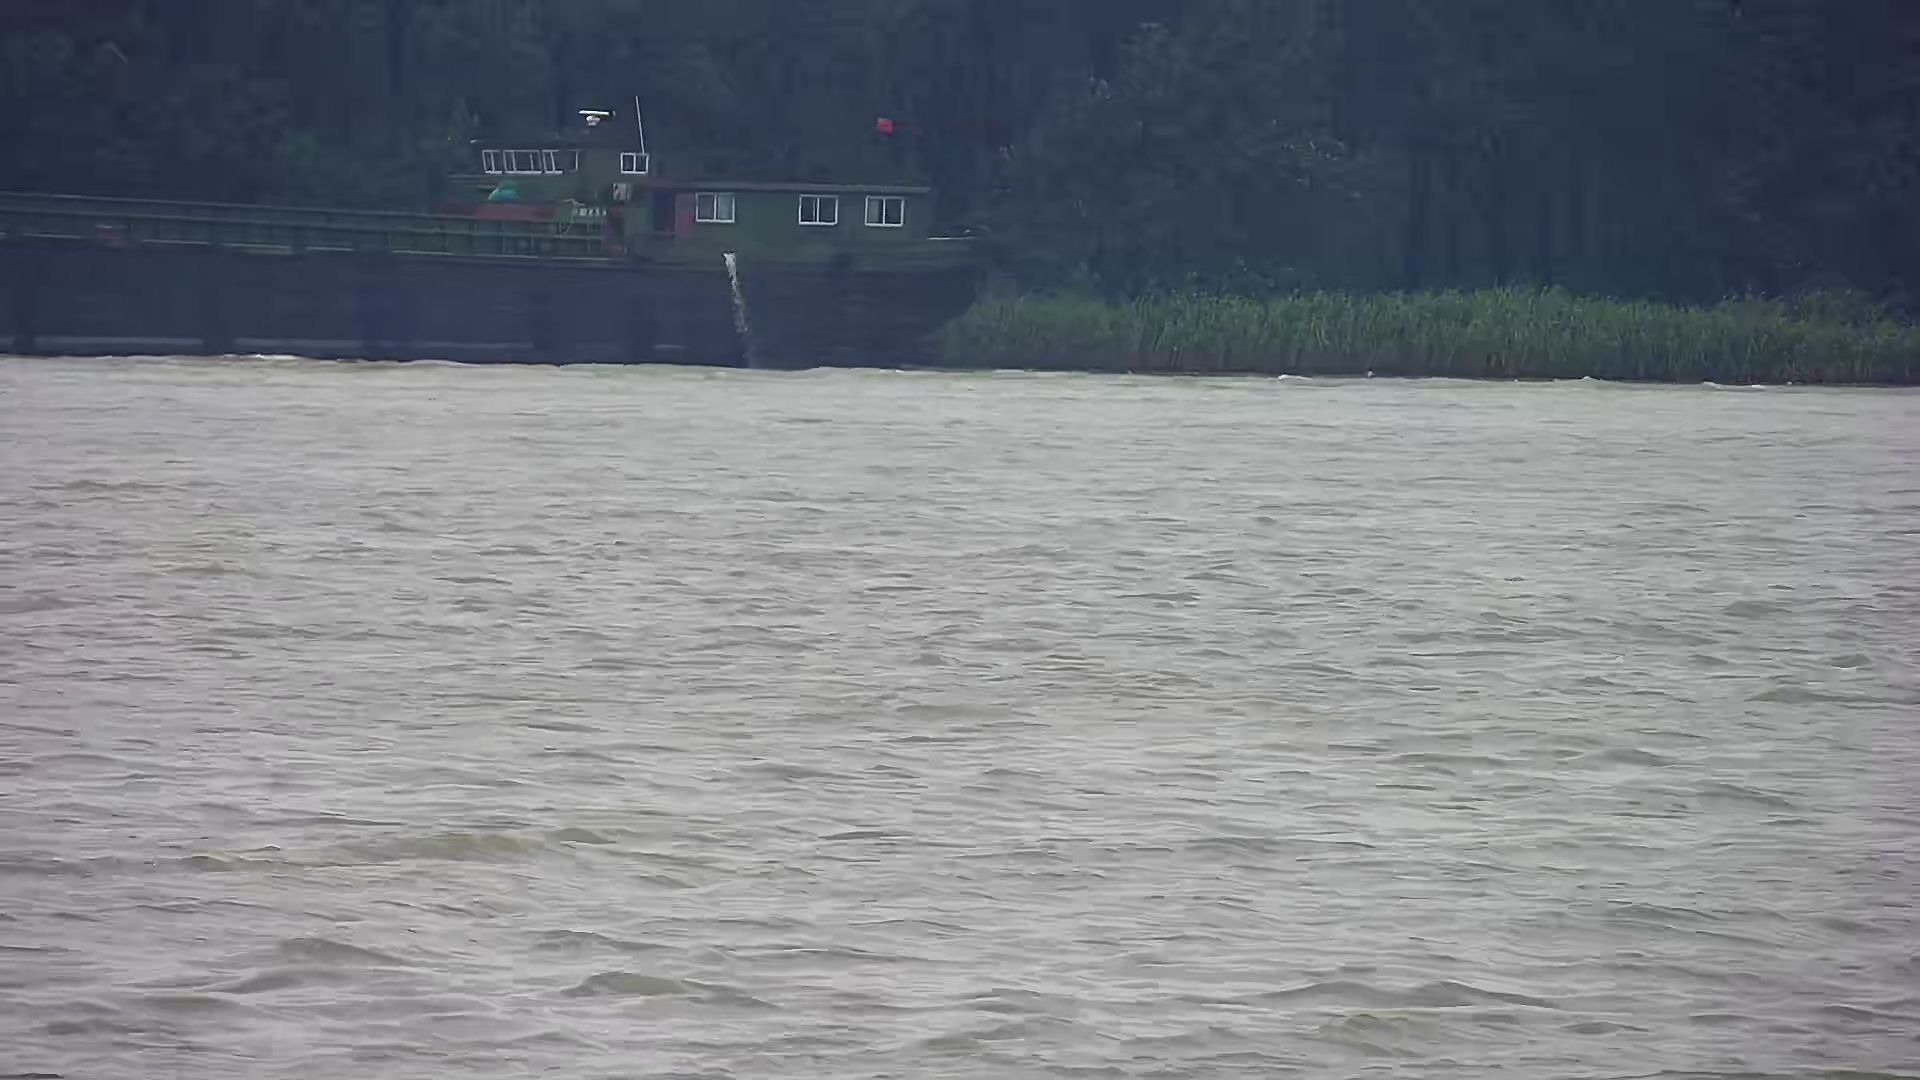ship: (5, 95, 986, 385)
